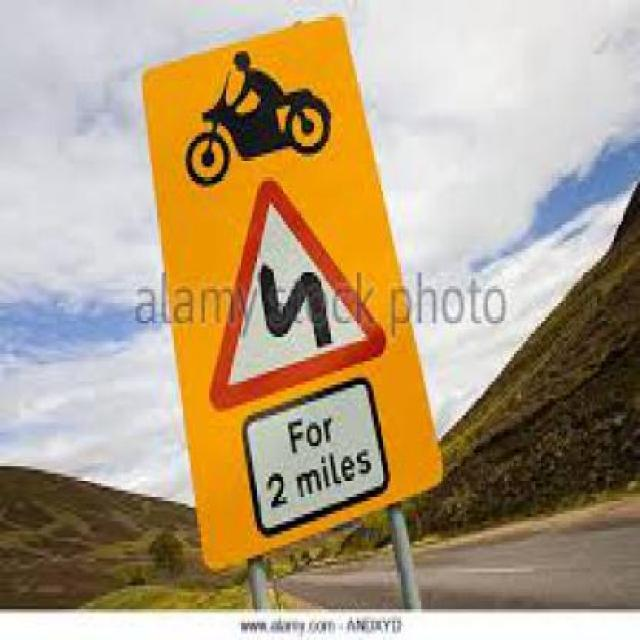warn_double_curve: (202, 178, 392, 414)
